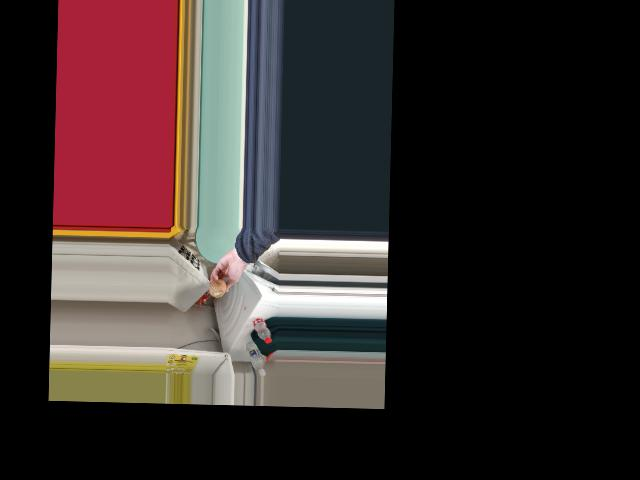sweet_potato: (210, 276, 226, 297)
